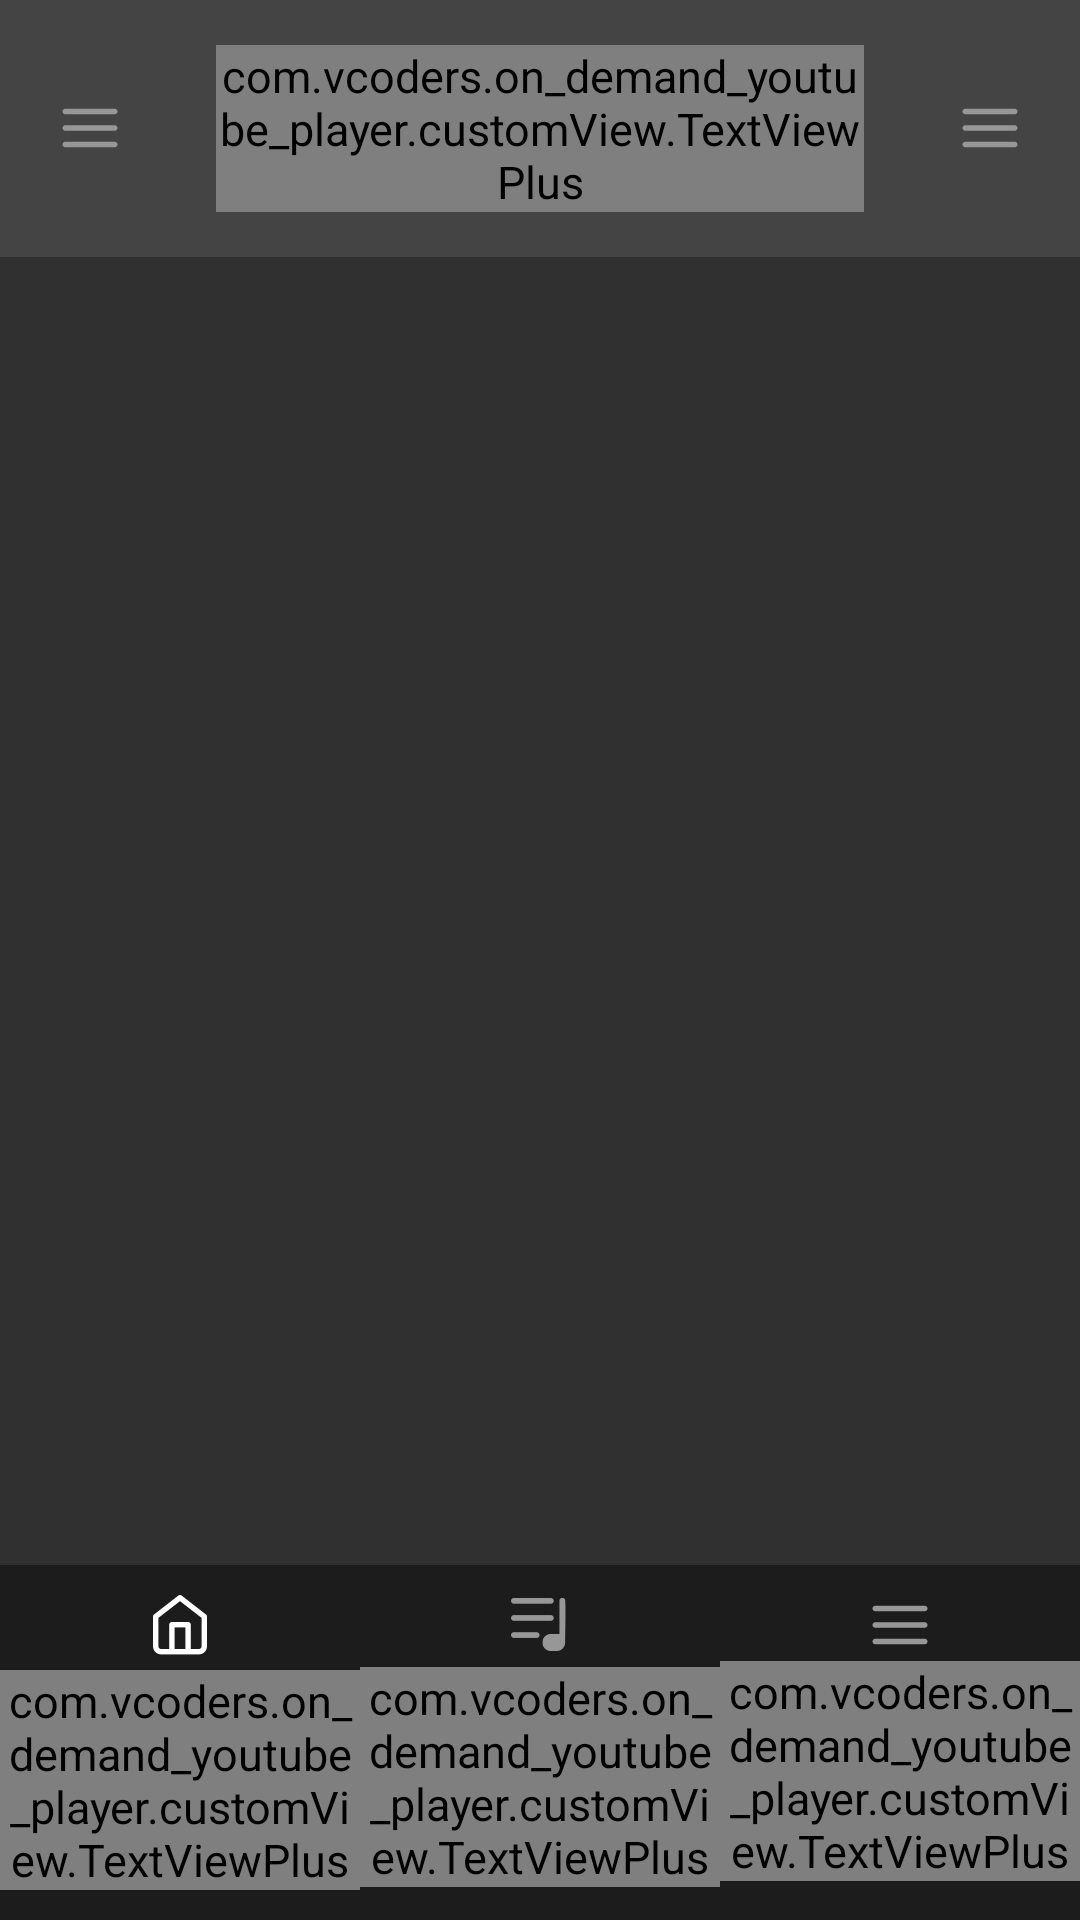

Icon bounding boxes for this 1080x1920 phone screenshot, format (x1, y1, x2, y2):
home: (153, 1595, 207, 1655)
menu: (62, 109, 118, 147), (962, 109, 1018, 147), (872, 1605, 928, 1645)
playlist: (511, 1598, 566, 1651)
